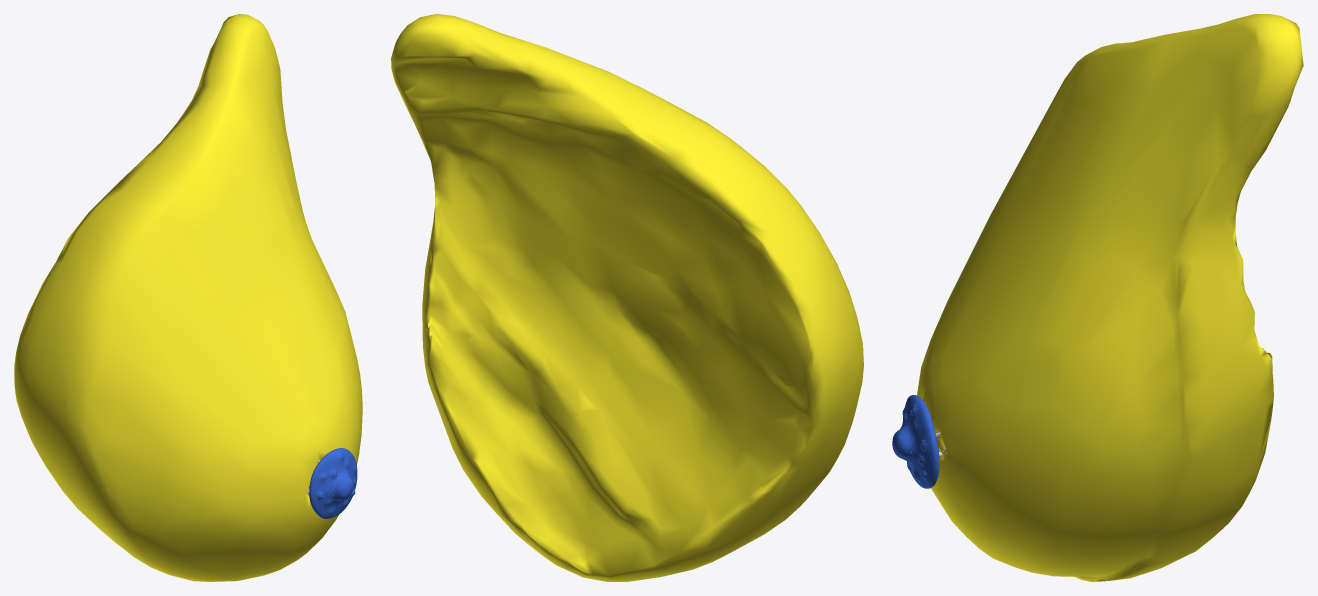
File: 3d-vh-f-mammary-gland-l-20.glb
The picture shows the model from 3 angles, left to right: view 1: azimuth 30°, elevation 25°; view 2: azimuth 150°, elevation 25°; view 3: azimuth 270°, elevation 25°; orthographic projection. The views are drawn at different scales.
Parts seen in each view (by area): view 1: VH_F_fat_L, VH_F_areola_L; view 2: VH_F_fat_L; view 3: VH_F_fat_L, VH_F_areola_L, VH_F_nipple_L.
Boxes of the visible parts, box(x1,y1,x2,y2) form: VH_F_fat_L: box(14, 14, 362, 581); VH_F_areola_L: box(309, 448, 357, 518); VH_F_fat_L: box(391, 14, 863, 581); VH_F_fat_L: box(916, 14, 1303, 581); VH_F_areola_L: box(900, 395, 939, 488); VH_F_nipple_L: box(892, 426, 912, 463).
Size of the model in its own units: 0.1281 by 0.1819 by 0.1119.
